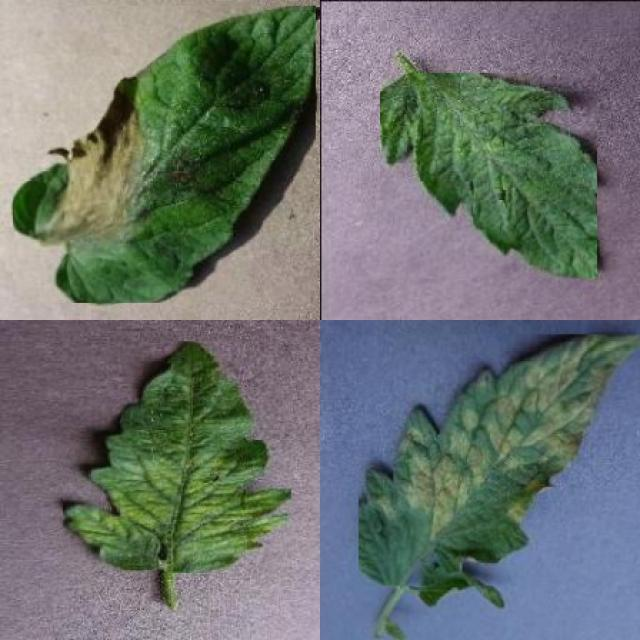Late Blight: (13, 7, 316, 304)
Leaf Mold: (358, 334, 640, 585)
Mosaic Virus: (63, 341, 291, 573), (381, 74, 598, 279)
